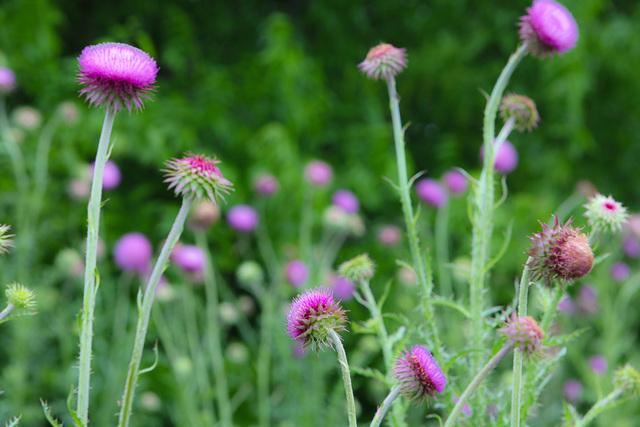thistle: (67, 38, 160, 115), (277, 285, 351, 350), (391, 340, 446, 409), (515, 6, 584, 58)
